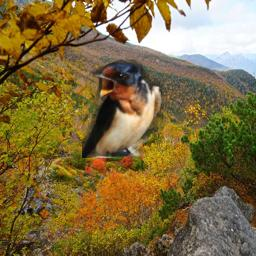Swallow: (82, 59, 164, 158)
